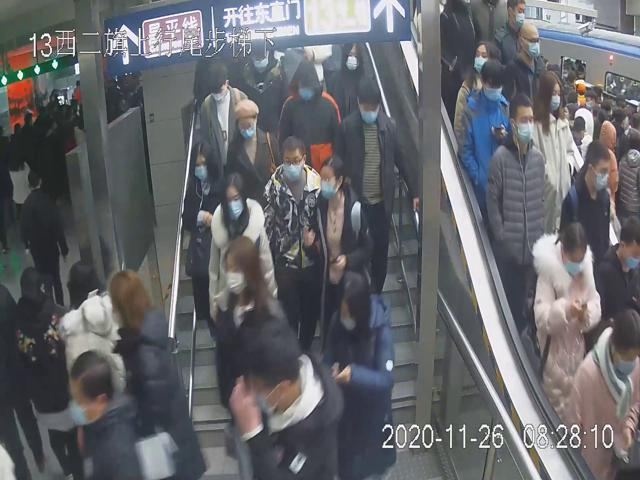person: (332, 77, 421, 288), (211, 236, 295, 432), (485, 92, 551, 338), (322, 270, 397, 480), (531, 215, 601, 432), (208, 166, 278, 378), (261, 134, 325, 357), (299, 152, 379, 321), (181, 142, 229, 337), (554, 140, 619, 283), (275, 56, 340, 163), (222, 97, 282, 208), (196, 60, 249, 157), (323, 42, 372, 122)
